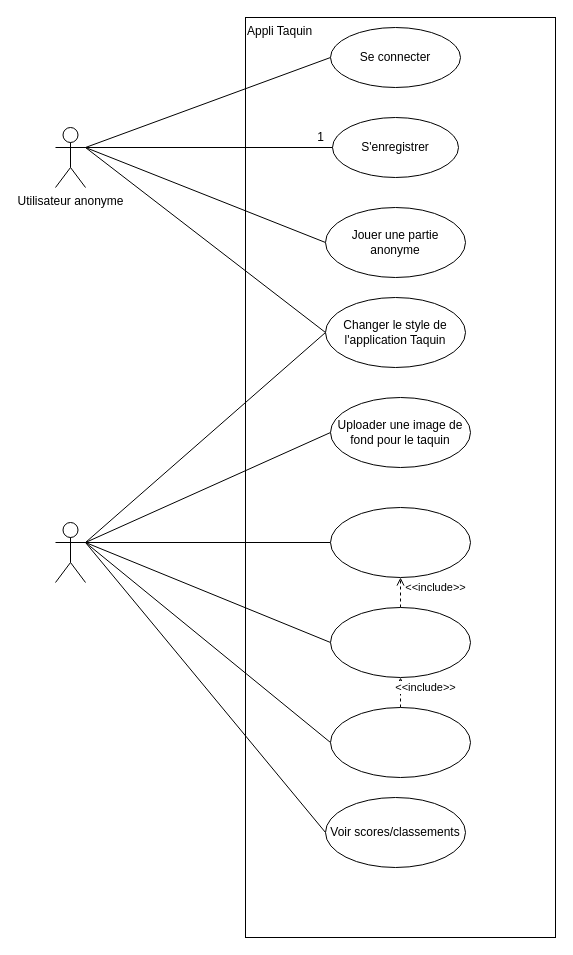
Some shapes in this 573 by 955 pixel diagram are drawn without their labels. The centre of each missing label's shape, as x and y in pixels:
"Enregistrer partie actuelle" belongs at point 400,642.
"Lancer nouvelle partie" belongs at point 400,542.
"Reprendre partie enregistrée" belongs at point 400,742.
"Utilisateur connecté" belongs at point 70,552.
